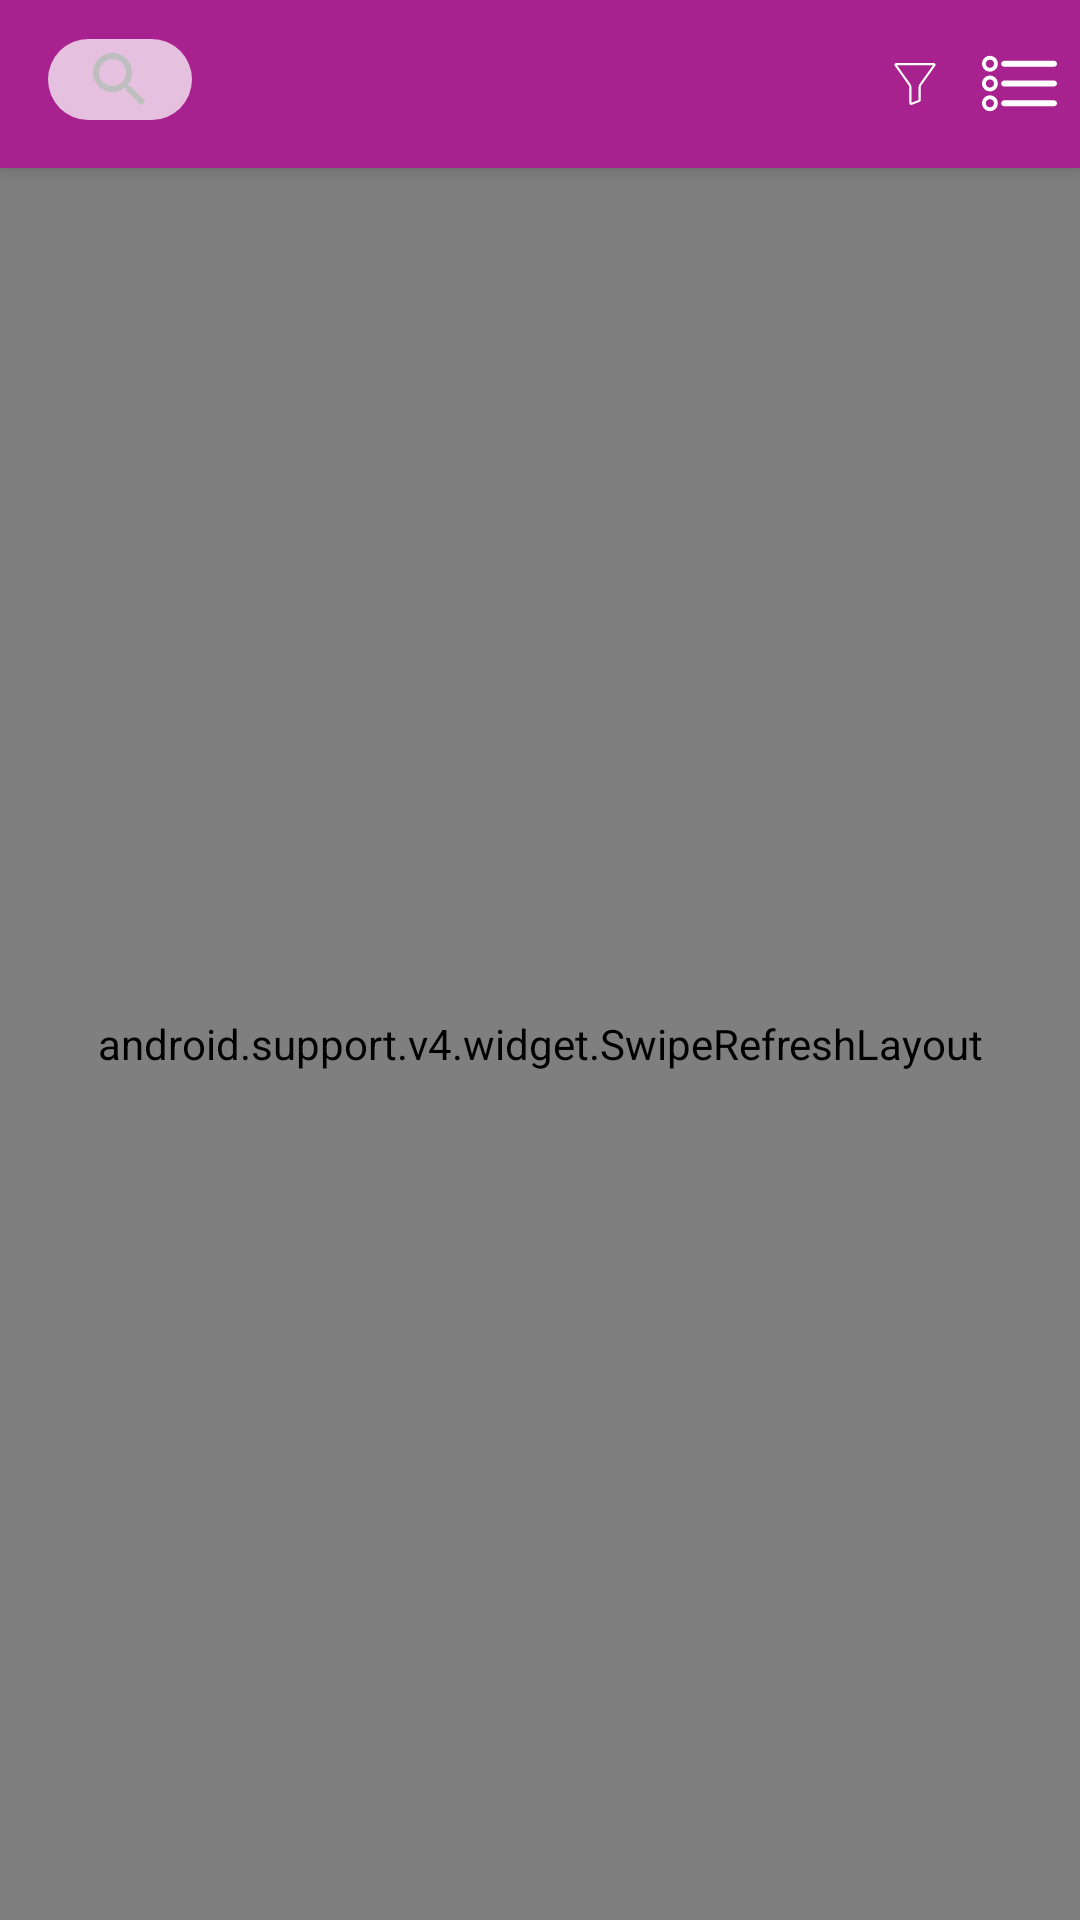

Screen size 1080 × 1920. Icon name, then its center in pixels as (x,y):
filter: (915,84)
linearview: (1019,83)
